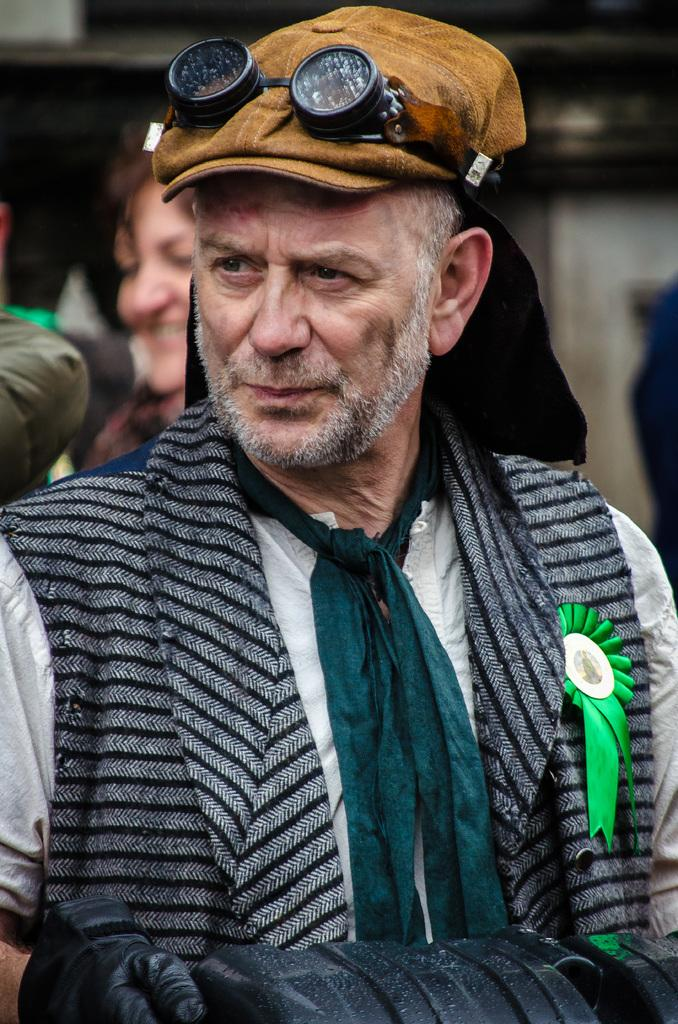Hat: (152, 6, 528, 202)
